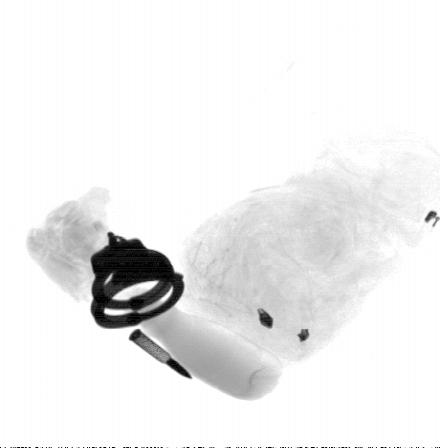Bullet: (128, 329, 193, 380)
HandCuffs: (89, 229, 186, 330)
